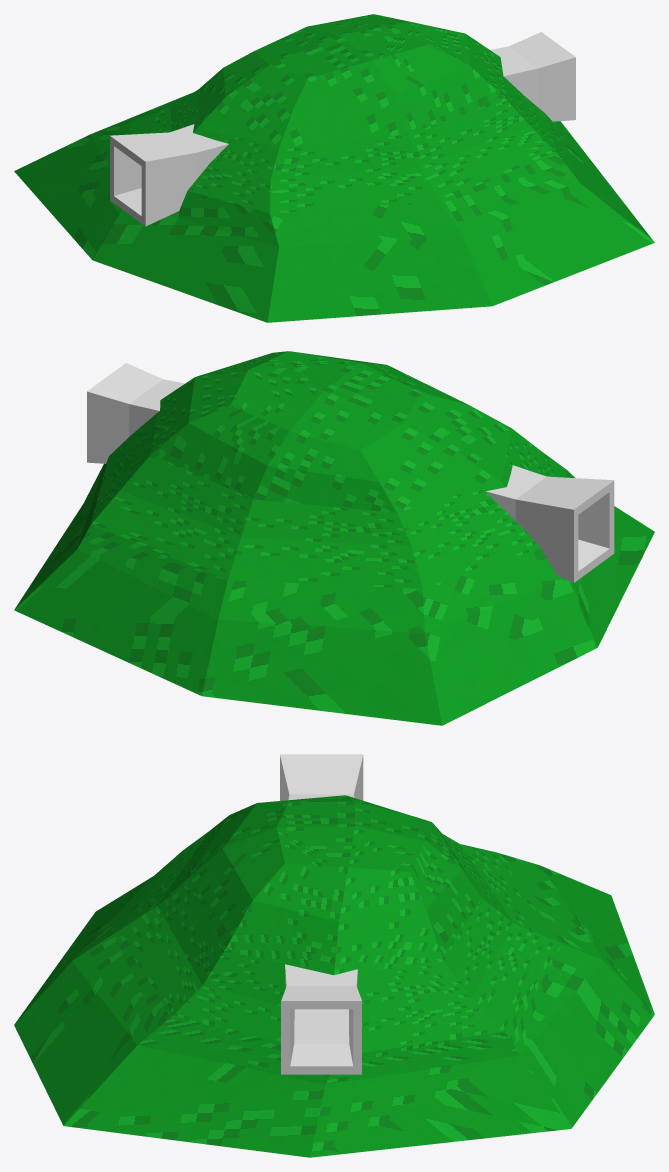
File: HillWithTreeTrunk.fbx
3 views of the same model, one above another, from view 1: azimuth 30°, elevation 25°; view 2: azimuth 150°, elevation 25°; view 3: azimuth 270°, elevation 25° (orthographic). The views are drawn at different scales.
Visible parts, largest first — view 1: Hill, TreeTrunkTunnel; view 2: Hill, TreeTrunkTunnel; view 3: Hill, TreeTrunkTunnel.
Part boxes in pixels (x1,y1,x2,y2): Hill: (14, 14, 654, 322); TreeTrunkTunnel: (110, 32, 575, 226); Hill: (14, 351, 654, 725); TreeTrunkTunnel: (87, 363, 614, 582); Hill: (14, 795, 654, 1157); TreeTrunkTunnel: (280, 754, 363, 1074).
Bounding box in the file's own units: 1988 × 707 × 1986.
